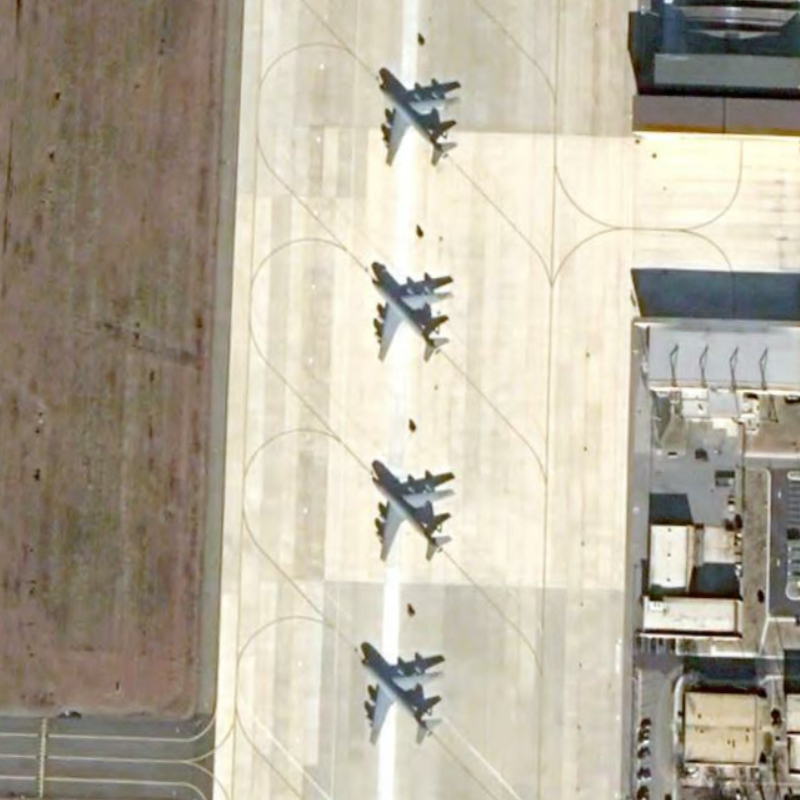A14: (365, 58, 466, 171), (349, 645, 451, 751), (361, 268, 460, 371), (363, 466, 459, 568)
